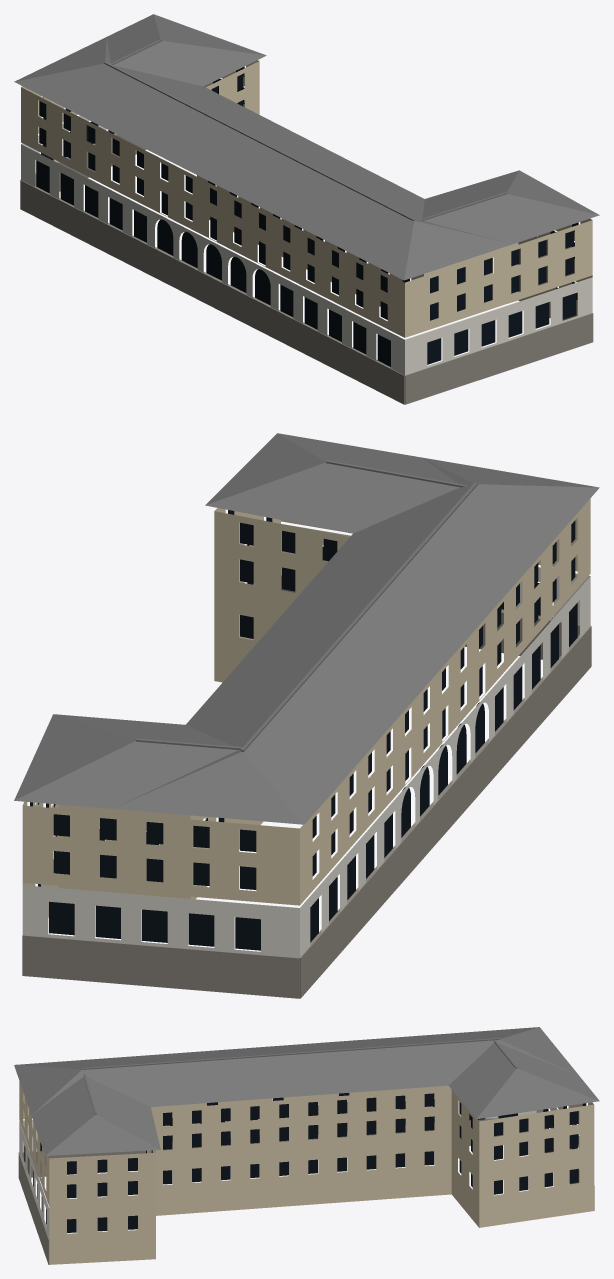
3 views of the same model, one above another, from view 1: azimuth 30°, elevation 25°; view 2: azimuth 150°, elevation 25°; view 3: azimuth 270°, elevation 25° (orthographic). The views are drawn at different scales.
Visible parts, largest first — view 1: bm3_roof, bm3_wall, bm3_stone, bm3_glass, bm3_wall2; view 2: bm3_roof, bm3_wall, bm3_stone, bm3_wall2, bm3_glass; view 3: bm3_wall, bm3_roof, bm3_glass, bm3_stone, bm3_wall2.
Part boxes in pixels (x1,y1,x2,y2): bm3_roof: (14,14,599,280); bm3_wall: (21,60,592,337); bm3_stone: (20,134,593,404); bm3_glass: (36,66,578,366); bm3_wall2: (21,115,592,375); bm3_roof: (14,433,599,824); bm3_wall: (22,498,590,917); bm3_stone: (22,574,591,998); bm3_wall2: (22,524,590,957); bm3_glass: (30,510,577,950); bm3_wall: (19,1081,594,1264); bm3_roof: (14,1027,599,1155); bm3_glass: (24,1093,586,1232); bm3_stone: (18,1117,594,1264); bm3_wall2: (19,1093,579,1239).
Bounding box in the file's own units: 36.63 × 17.02 × 70.32.
